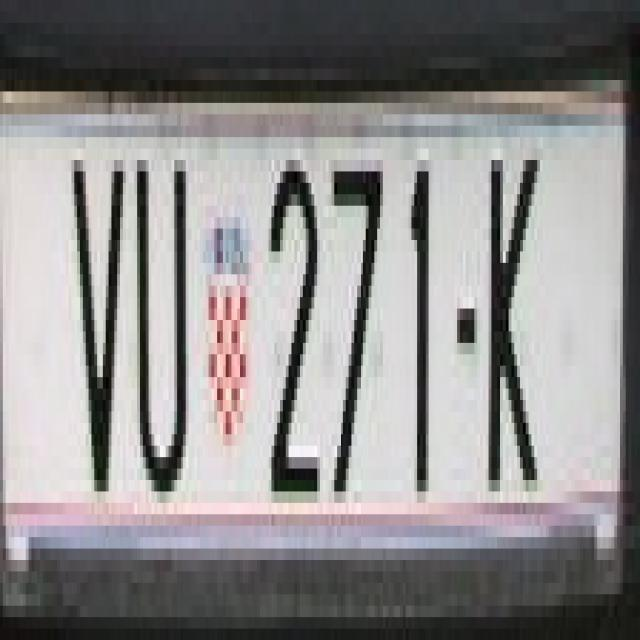1: (402, 159, 438, 492)
2: (266, 148, 318, 480)
7: (328, 172, 388, 514)
K: (491, 159, 543, 492)
U: (132, 159, 188, 492)
V: (71, 126, 120, 503)
